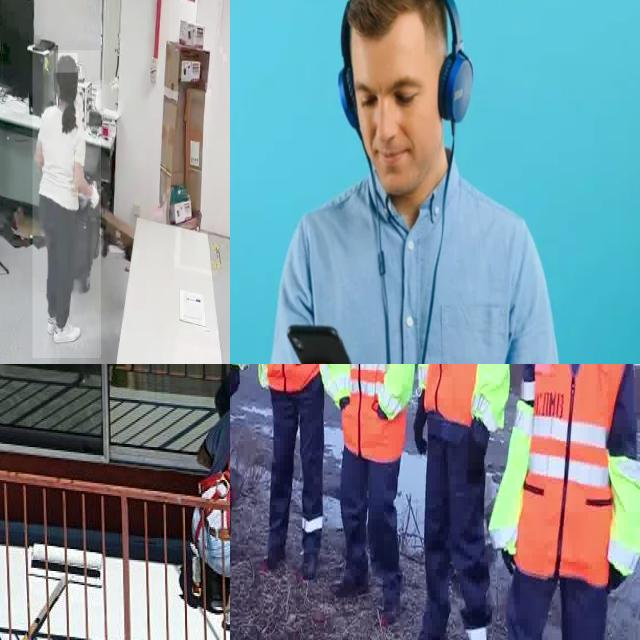Ear-protection: (336, 0, 472, 192)
Harness: (194, 401, 230, 529)
boots: (408, 580, 452, 640), (292, 513, 322, 579), (463, 590, 491, 640), (264, 520, 287, 576), (230, 471, 238, 573)
hand_glove: (464, 417, 485, 495), (414, 392, 429, 456), (88, 181, 102, 216), (230, 364, 241, 394)
head_nohelmet: (56, 53, 78, 73)
person: (514, 364, 640, 640), (401, 364, 504, 640), (32, 50, 102, 359), (328, 364, 406, 635), (249, 364, 334, 586)
shoes: (50, 314, 82, 348)
vest: (516, 364, 635, 581), (340, 364, 407, 455), (428, 364, 503, 412)
